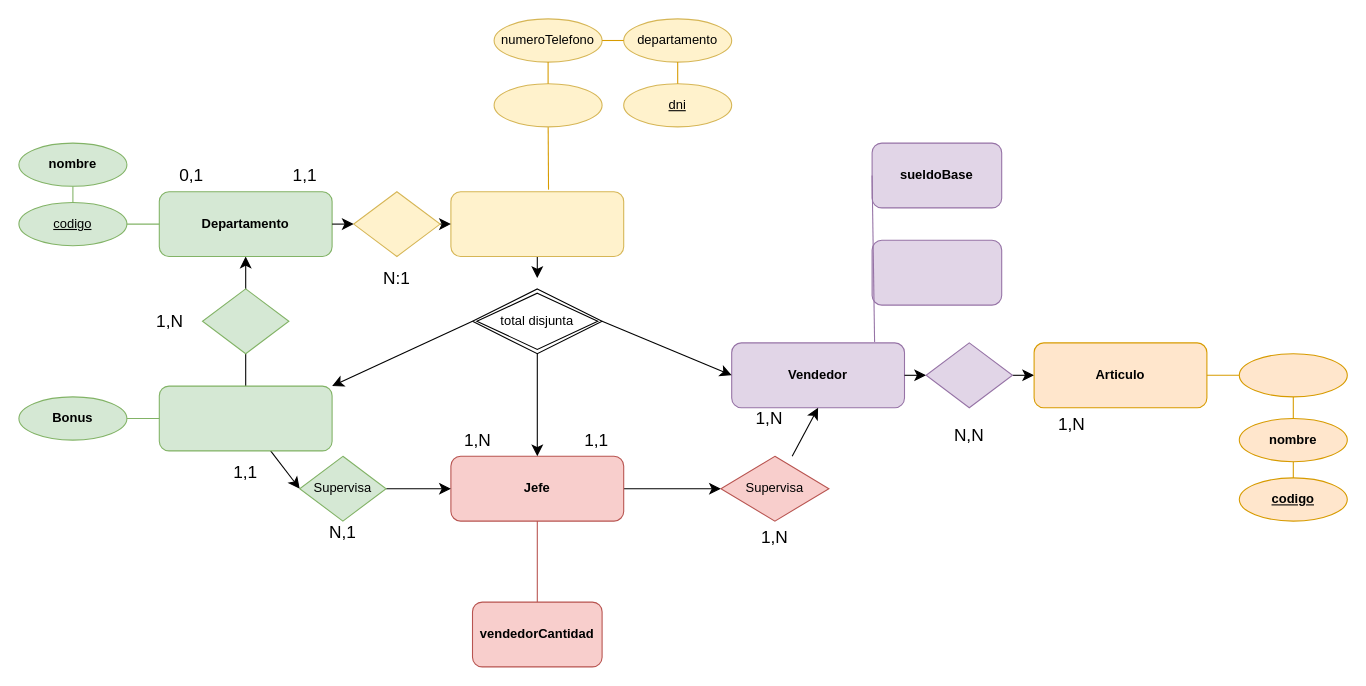
Some shapes in this 1366 by 686 pixel diagram are drawn without their labels. The shapes that lost their labels are listed below. From the top down, each one's centre as x and y in pixels, then its label:
At (x=547, y=105): "nombreApellido".
At (x=396, y=223): "Pertenece".
At (x=537, y=223): "Trabajadores".
At (x=936, y=272): "zona".
At (x=245, y=321): "Dirige".
At (x=969, y=375): "Vende".
At (x=1292, y=375): "precio".
At (x=245, y=418): "Gerente".
